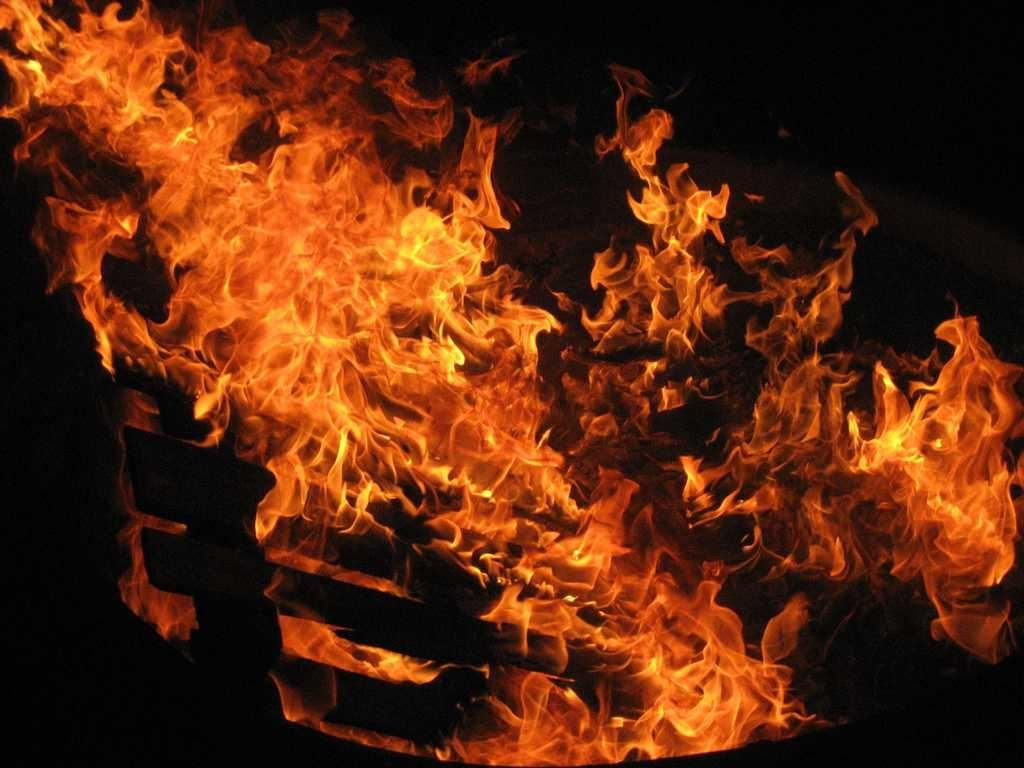fire: (157, 327, 992, 729), (11, 7, 869, 318)
